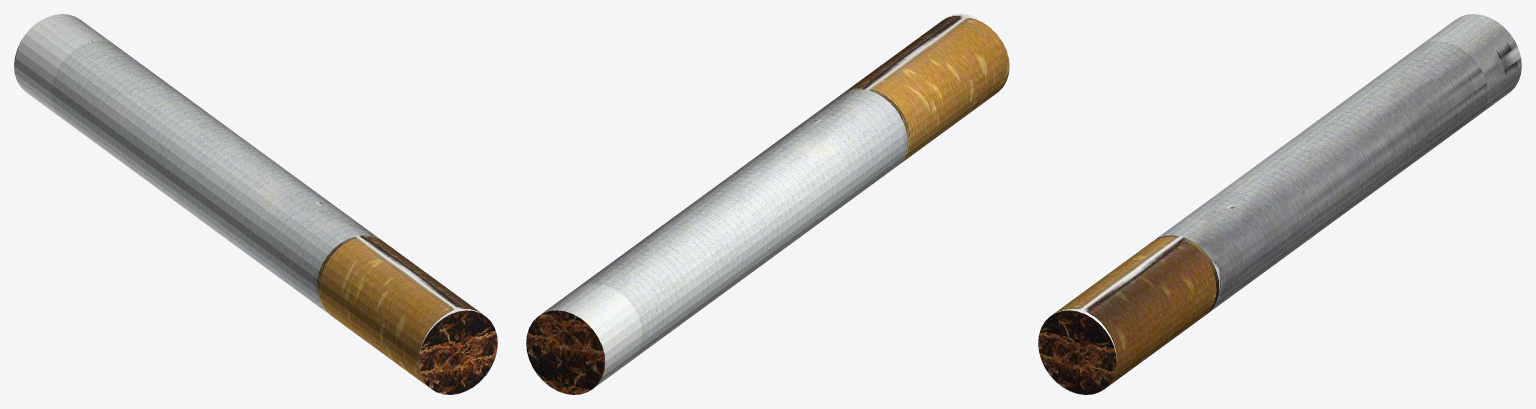
The model's file is Cigarette.fbx.
The picture shows the model from 3 angles, left to right: view 1: azimuth 30°, elevation 25°; view 2: azimuth 150°, elevation 25°; view 3: azimuth 330°, elevation 25°; orthographic projection.
Visible parts, largest first — view 1: Cylinder; view 2: Cylinder; view 3: Cylinder.
Part boxes in pixels (<box>): Cylinder: <box>14,14,497,394</box>; Cylinder: <box>526,14,1009,394</box>; Cylinder: <box>1038,14,1521,394</box>.
Bounding box in the file's own units: 50 × 50 × 445.
Materials: 2 (2 with a texture image).
